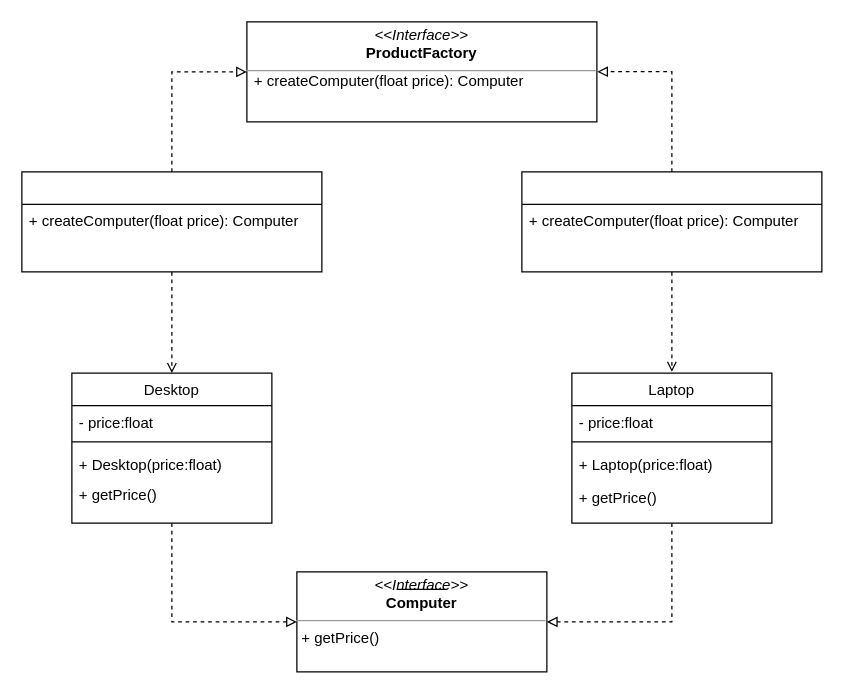
Image size: 844x694. Some labels were removed from this diagram. The shapes that lost their labels are listed below. From the top down, each one's box as (x1, y1, x2, y2) in pixels, then its label:
(21, 171, 322, 272): DesktopFactory
(521, 171, 822, 272): LaptopFactory
